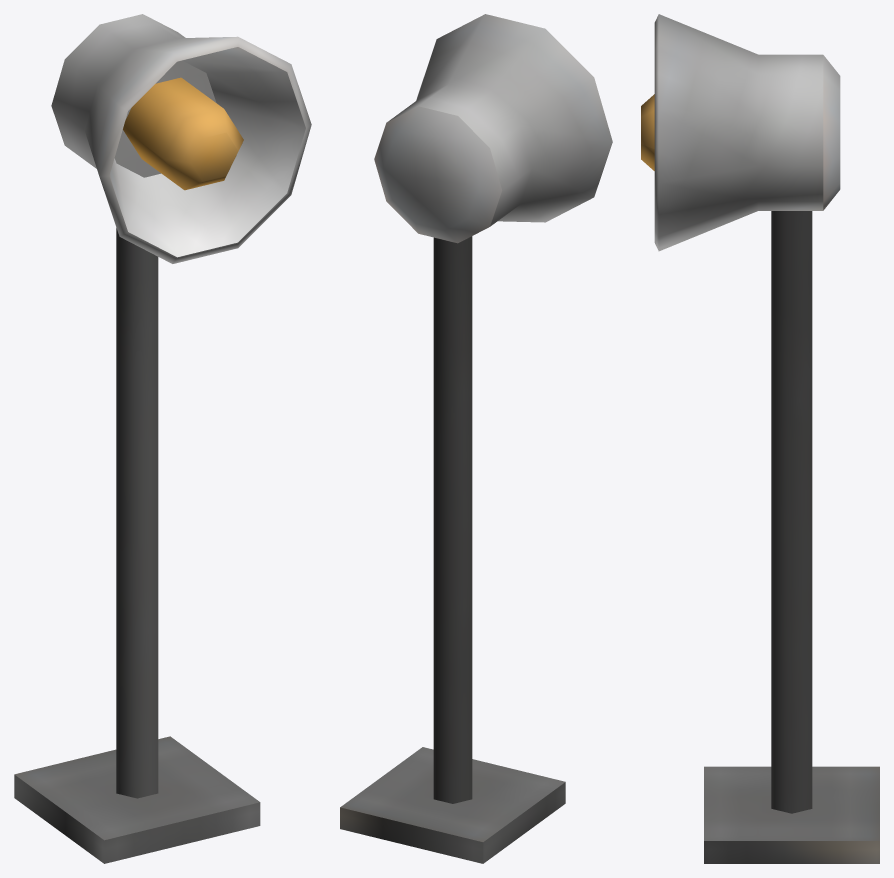
File: Speaker.FBX
3 renders of one model, left to right at view 1: azimuth 30°, elevation 25°; view 2: azimuth 150°, elevation 25°; view 3: azimuth 270°, elevation 25°, orthographic. The views are drawn at different scales.
Visible parts, largest first — view 1: Speaker; view 2: Speaker; view 3: Speaker.
Boxes of the visible parts, bbox=[...] form: Speaker: bbox=[14, 14, 311, 863]; Speaker: bbox=[340, 14, 612, 863]; Speaker: bbox=[641, 14, 879, 863].
Bounding box in the file's own units: 107 × 394 × 107.
